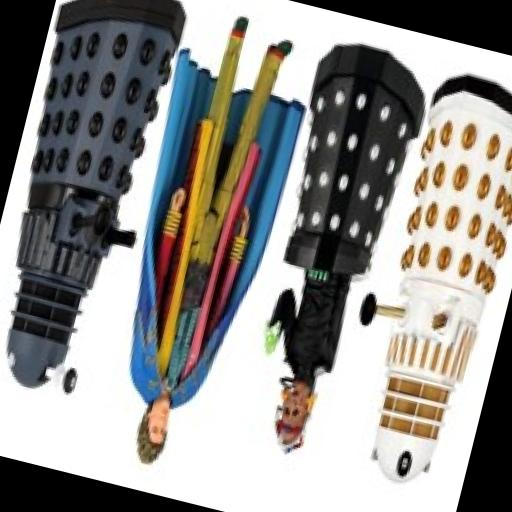dalek: (315, 60, 512, 504), (0, 0, 191, 409), (260, 34, 442, 311)
